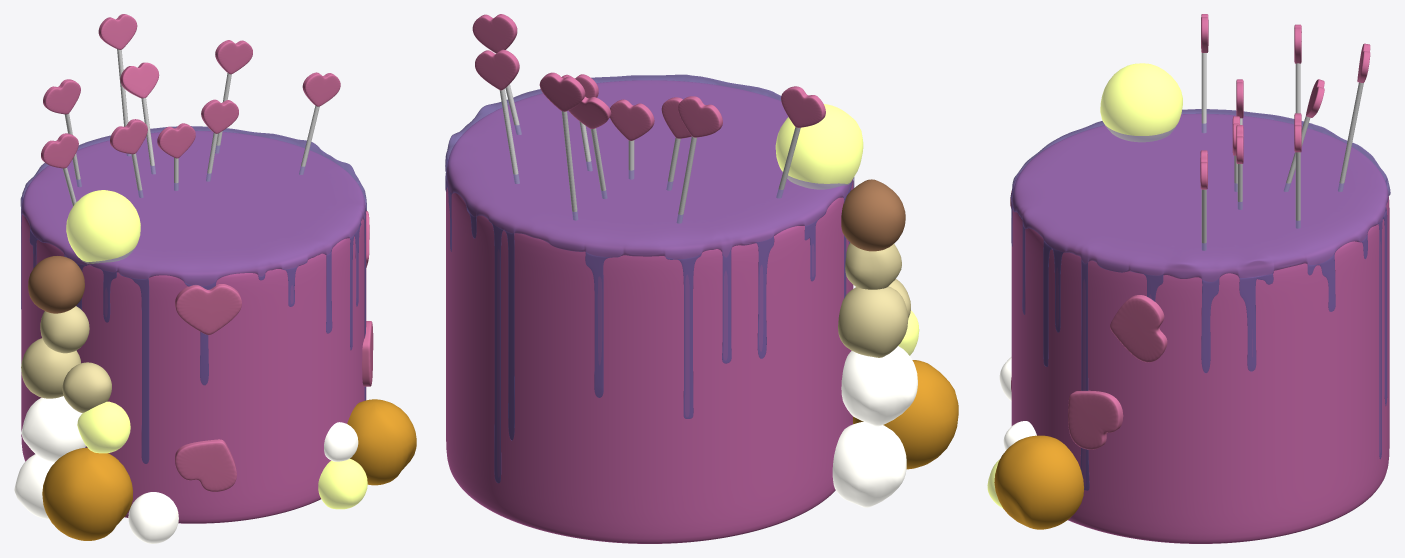
File: Cake_Layer_1_Pink_Topper1_Hearts_VioletDrip.glb
3 renders of one model, left to right at view 1: azimuth 30°, elevation 25°; view 2: azimuth 150°, elevation 25°; view 3: azimuth 270°, elevation 25°, orthographic. The views are drawn at different scales.
Parts seen in each view (by area): view 1: Circle, Circle.001, Sphere, Sphere.015, Sphere.026, Sphere.002, Sphere.006, Star.003, Star.002, Sphere.005, Sphere.003, Sphere.001 (+15 smaller); view 2: Circle, Circle.001, Sphere.015, Sphere.013, Sphere.002, Sphere, Sphere.005, Sphere.006, Sphere.010, Star.006, Star.005, Star.009 (+6 smaller); view 3: Circle, Circle.001, Sphere.026, Sphere.015, Star.001, Star.004, Cylinder.049, Sphere.027.
Boxes of the visible parts, box(x1,y1,x2,y2) form: Circle: box(21, 131, 366, 523); Circle.001: box(20, 126, 366, 463); Sphere: box(42, 448, 132, 540); Sphere.015: box(66, 190, 140, 263); Sphere.026: box(347, 399, 416, 485); Sphere.002: box(21, 396, 85, 462); Sphere.006: box(28, 256, 84, 313); Star.003: box(175, 284, 241, 334); Star.002: box(175, 439, 236, 491); Sphere.005: box(21, 338, 80, 398); Sphere.003: box(77, 401, 130, 453); Sphere.001: box(128, 492, 178, 543); Circle: box(446, 80, 853, 543); Circle.001: box(445, 74, 854, 483); Sphere.015: box(775, 104, 863, 189); Sphere.013: box(832, 421, 906, 507); Sphere.002: box(841, 346, 917, 426); Sphere: box(853, 360, 958, 469); Sphere.005: box(838, 286, 908, 357); Sphere.006: box(841, 179, 905, 251); Sphere.010: box(845, 242, 901, 289); Star.006: box(678, 96, 722, 137); Star.005: box(781, 86, 825, 127); Star.009: box(475, 49, 519, 90); Circle: box(1011, 114, 1389, 543); Circle.001: box(1010, 109, 1390, 490); Sphere.026: box(994, 435, 1083, 529); Sphere.015: box(1100, 63, 1182, 141); Star.001: box(1110, 295, 1167, 362); Star.004: box(1068, 390, 1123, 449); Cylinder.049: box(1338, 82, 1363, 191); Sphere.027: box(1003, 421, 1036, 450).
Bounding box in the file's own units: 0.1763 × 0.1867 × 0.159.
